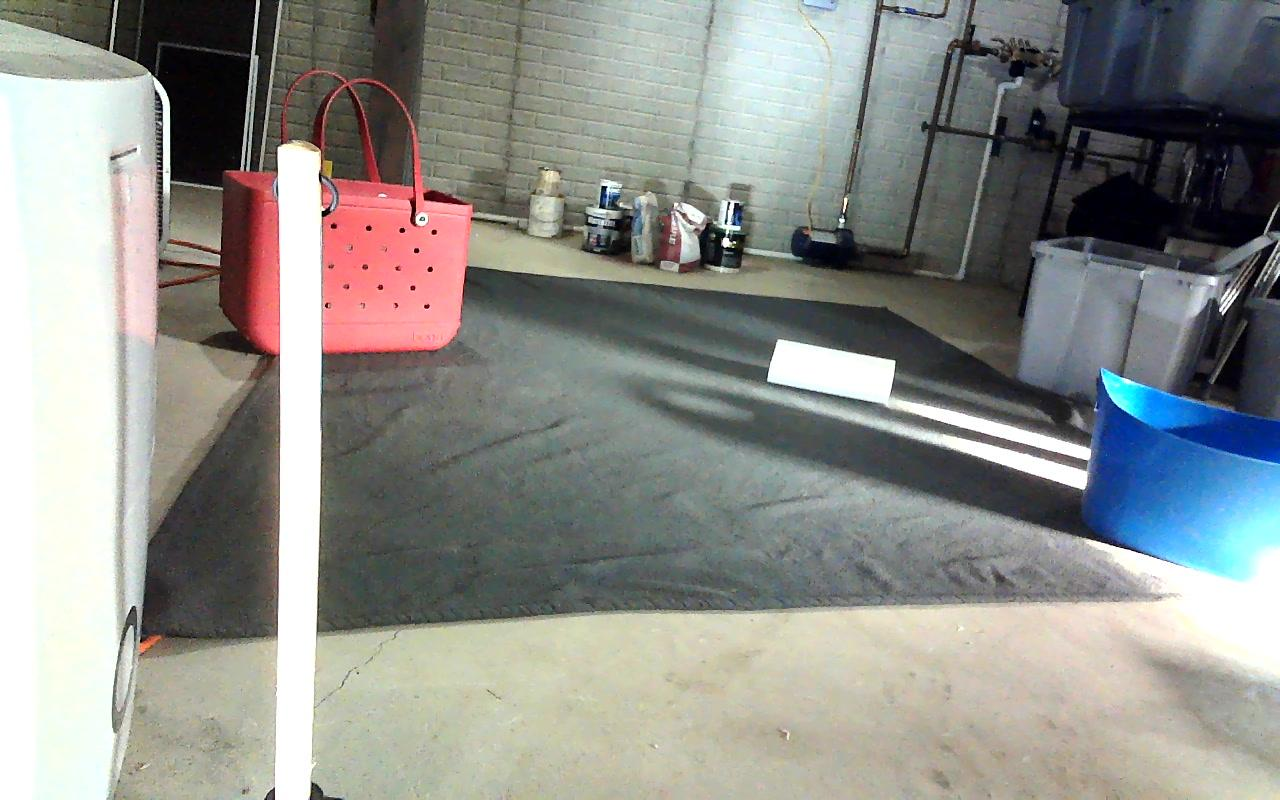coral: (767, 340, 897, 405)
